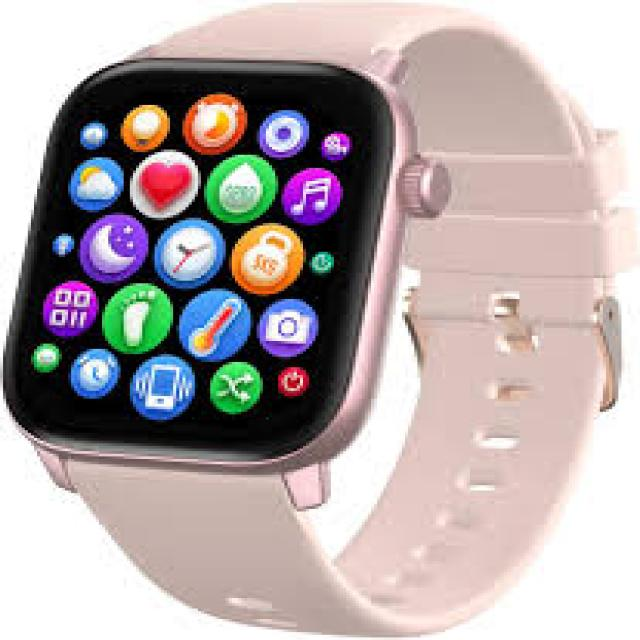objects: (0, 0, 272, 372), (0, 378, 328, 637), (436, 265, 637, 637), (454, 0, 637, 189), (306, 304, 414, 551)
